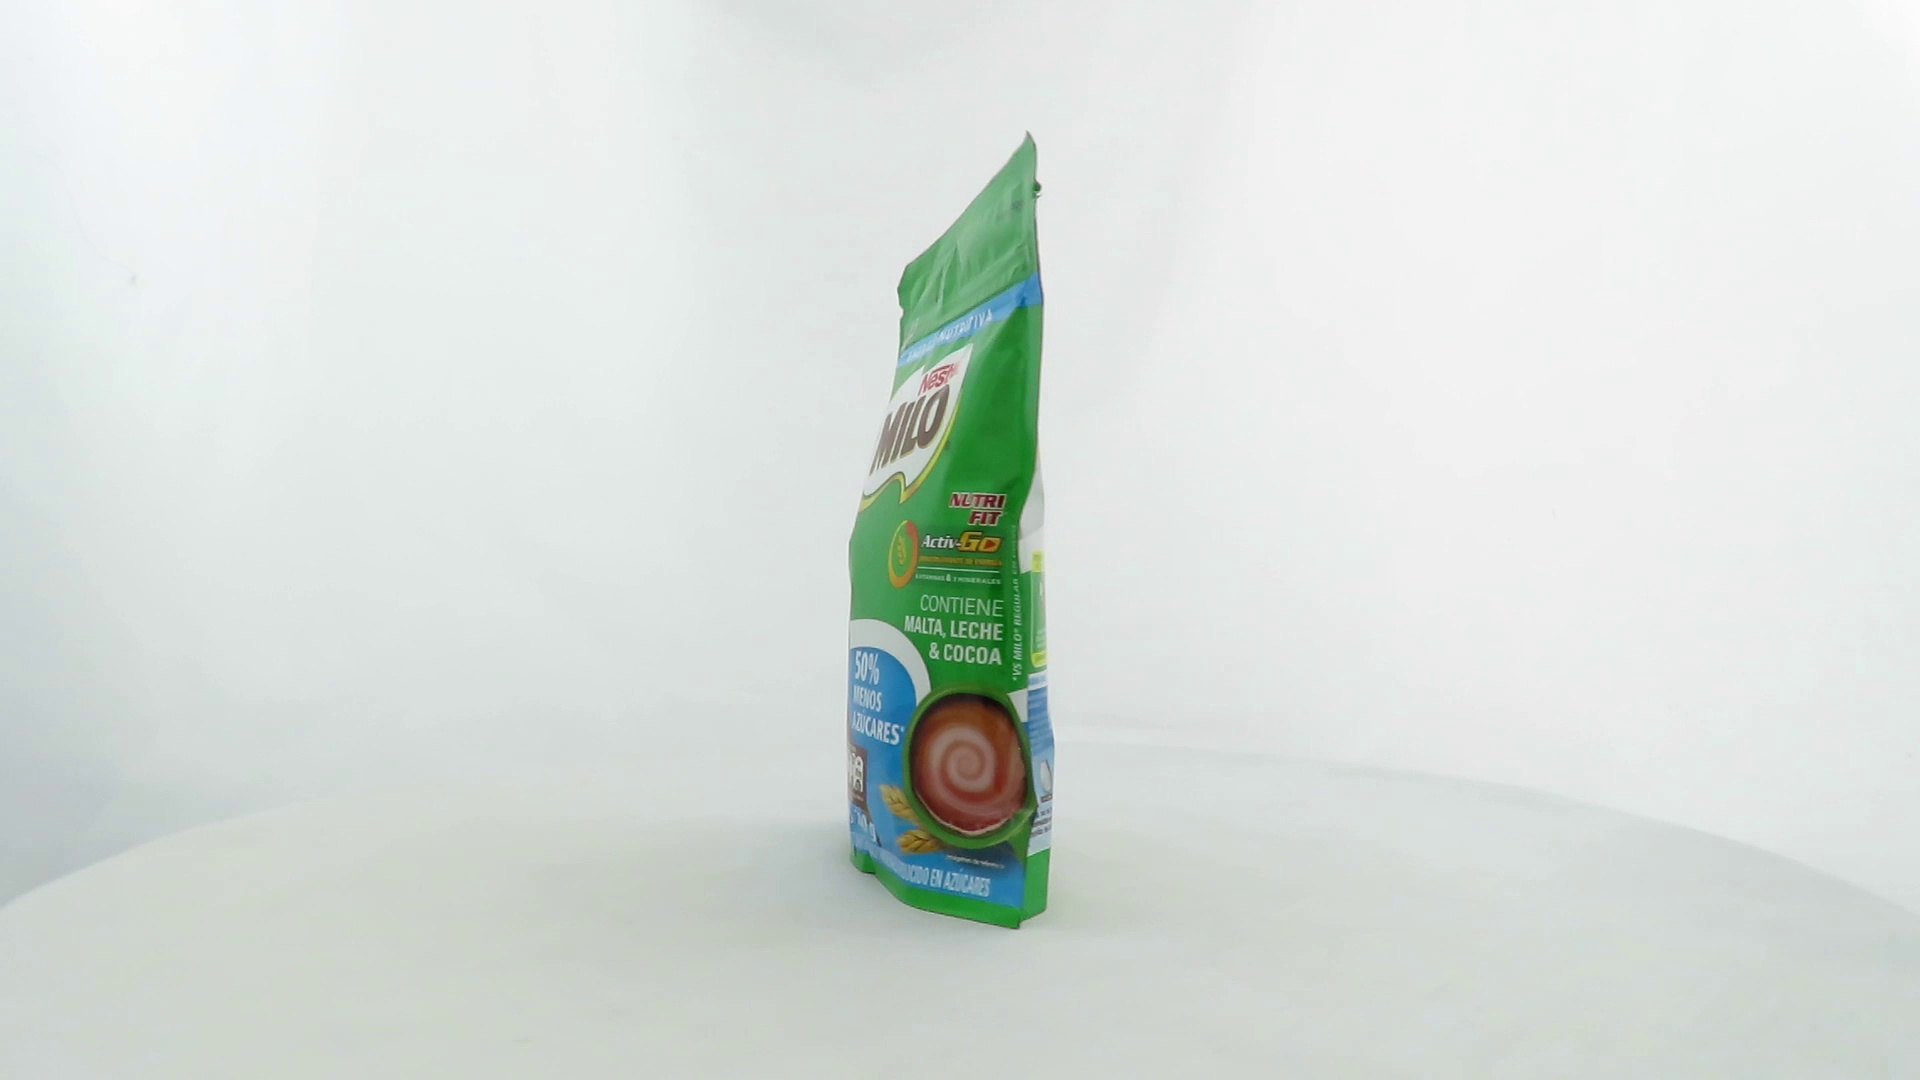COL0170205DYP20000: (841, 125, 1062, 936)
